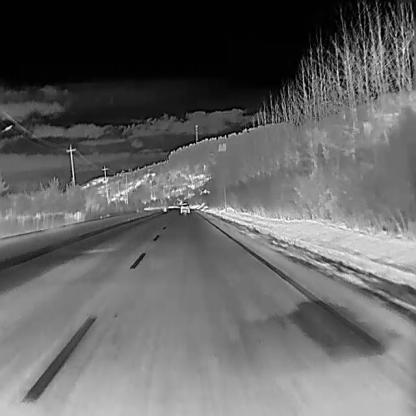car: (180, 201, 190, 214)
